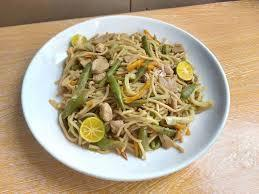pancit bihon: (64, 25, 203, 160)
